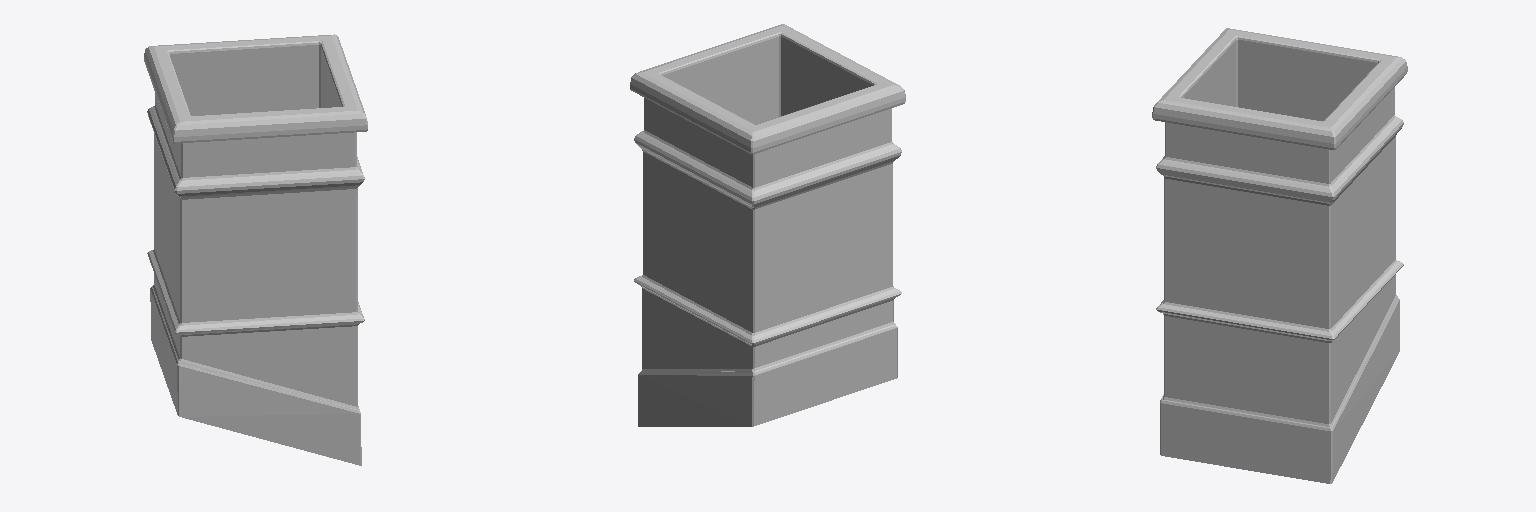
3 renders of one model, left to right at view 1: azimuth 30°, elevation 25°; view 2: azimuth 150°, elevation 25°; view 3: azimuth 270°, elevation 25°, orthographic.
Parts seen in each view (by area): view 1: Bistro_Research_Exterior_Paris_Chimney_01B1_5957; view 2: Bistro_Research_Exterior_Paris_Chimney_01B1_5957; view 3: Bistro_Research_Exterior_Paris_Chimney_01B1_5957.
Part boxes in pixels (left/top/right/bottom): Bistro_Research_Exterior_Paris_Chimney_01B1_5957: left=144, top=34, right=367, bottom=465; Bistro_Research_Exterior_Paris_Chimney_01B1_5957: left=630, top=24, right=905, bottom=426; Bistro_Research_Exterior_Paris_Chimney_01B1_5957: left=1152, top=28, right=1407, bottom=483.
Size of the model in its own units: 2.16 by 3.31 by 2.16.